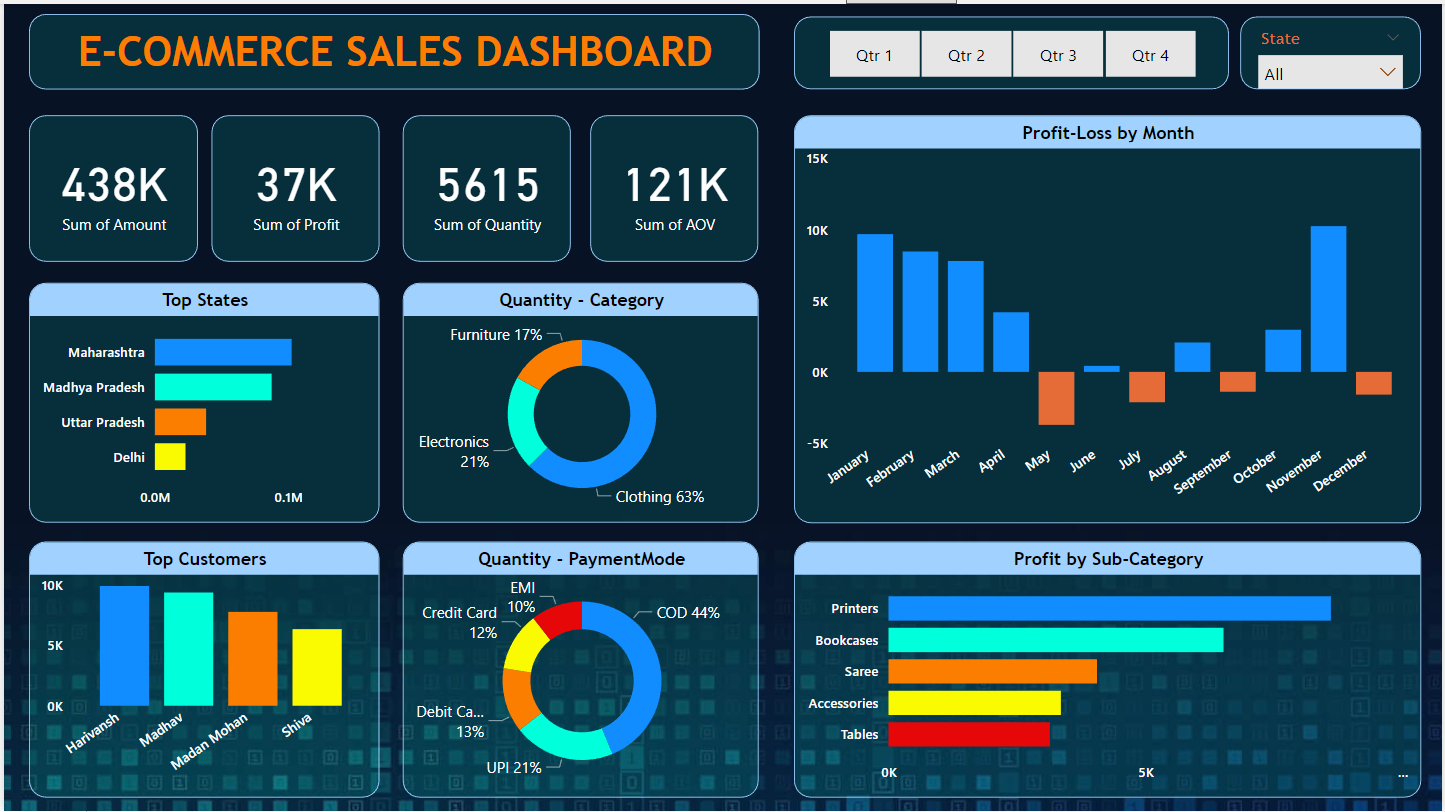

What the dashboard file says about the page in this screenshot:
{"tool":"powerbi","page":{"name":"Page 1","canvas":[1280,720],"ordinal":0},"visuals":[{"type":"textbox","box":[21.7,8.4,650.1,67.5],"z":0},{"type":"columnChart","title":"Profit-Loss by Month","fields":{"Category":["Orders.Order Date.Variation.Date Hierarchy.Month"],"Y":["Details.Profit"]},"box":[703.1,98.9,558.4,363],"z":1000},{"type":"barChart","title":"Profit by Sub-Category","fields":{"Category":["Details.Sub-Category"],"Y":["Details.Profit"]},"box":[703.1,478.8,558.4,227.9],"z":2000},{"type":"donutChart","title":"Quantity - Category","fields":{"Category":["Details.Category"],"Y":["Details.Quantity"]},"box":[354.6,248.4,317.2,213.5],"z":3000},{"type":"donutChart","title":"Quantity - PaymentMode","fields":{"Category":["Details.PaymentMode","Details.Category"],"Y":["Details.Quantity"]},"box":[354.6,478.8,317.2,227.9],"z":4000},{"type":"card","fields":{"Values":["Details.Amount"]},"box":[21.9,98.9,150,130.3],"z":5000},{"type":"card","fields":{"Values":["Details.Quantity"]},"box":[354.6,98.9,149.5,130.3],"z":6000},{"type":"card","fields":{"Values":["Details.Profit"]},"box":[184.5,98.9,149.5,130.3],"z":7000},{"type":"card","fields":{"Values":["Details.AOV"]},"box":[522.2,98.9,149.5,130.3],"z":8000},{"type":"barChart","title":"Top States","fields":{"Category":["Orders.State"],"Y":["Details.Amount"]},"box":[21.7,248.4,312.4,213.5],"z":9000},{"type":"columnChart","title":"Top Customers","fields":{"Category":["Orders.CustomerName"],"Y":["Details.Amount"]},"box":[22,479,312,228],"z":10000},{"type":"slicer","fields":{"Values":["Orders.Order Date.Variation.Date Hierarchy.Quarter"]},"box":[703.1,10.9,387.1,65.1],"z":11000},{"type":"slicer","fields":{"Values":["Orders.State"]},"box":[1101.1,10.9,160.4,65.1],"z":12000}]}

Visuals, with their boxes in screenshot pixels (x1, y1, x2, y2), scaled from the page's 1280x720 canvas onto the 1445x812 screenshot:
textbox: box(24, 9, 758, 86)
"Profit-Loss by Month" columnChart: box(794, 112, 1424, 521)
"Profit by Sub-Category" barChart: box(794, 540, 1424, 797)
"Quantity - Category" donutChart: box(400, 280, 758, 521)
"Quantity - PaymentMode" donutChart: box(400, 540, 758, 797)
card - Details.Amount: box(25, 112, 194, 258)
card - Details.Quantity: box(400, 112, 569, 258)
card - Details.Profit: box(208, 112, 377, 258)
card - Details.AOV: box(590, 112, 758, 258)
"Top States" barChart: box(24, 280, 377, 521)
"Top Customers" columnChart: box(25, 540, 377, 797)
slicer - Orders.Order Date.Variation.Date Hierarchy.Quarter: box(794, 12, 1231, 86)
slicer - Orders.State: box(1243, 12, 1424, 86)
